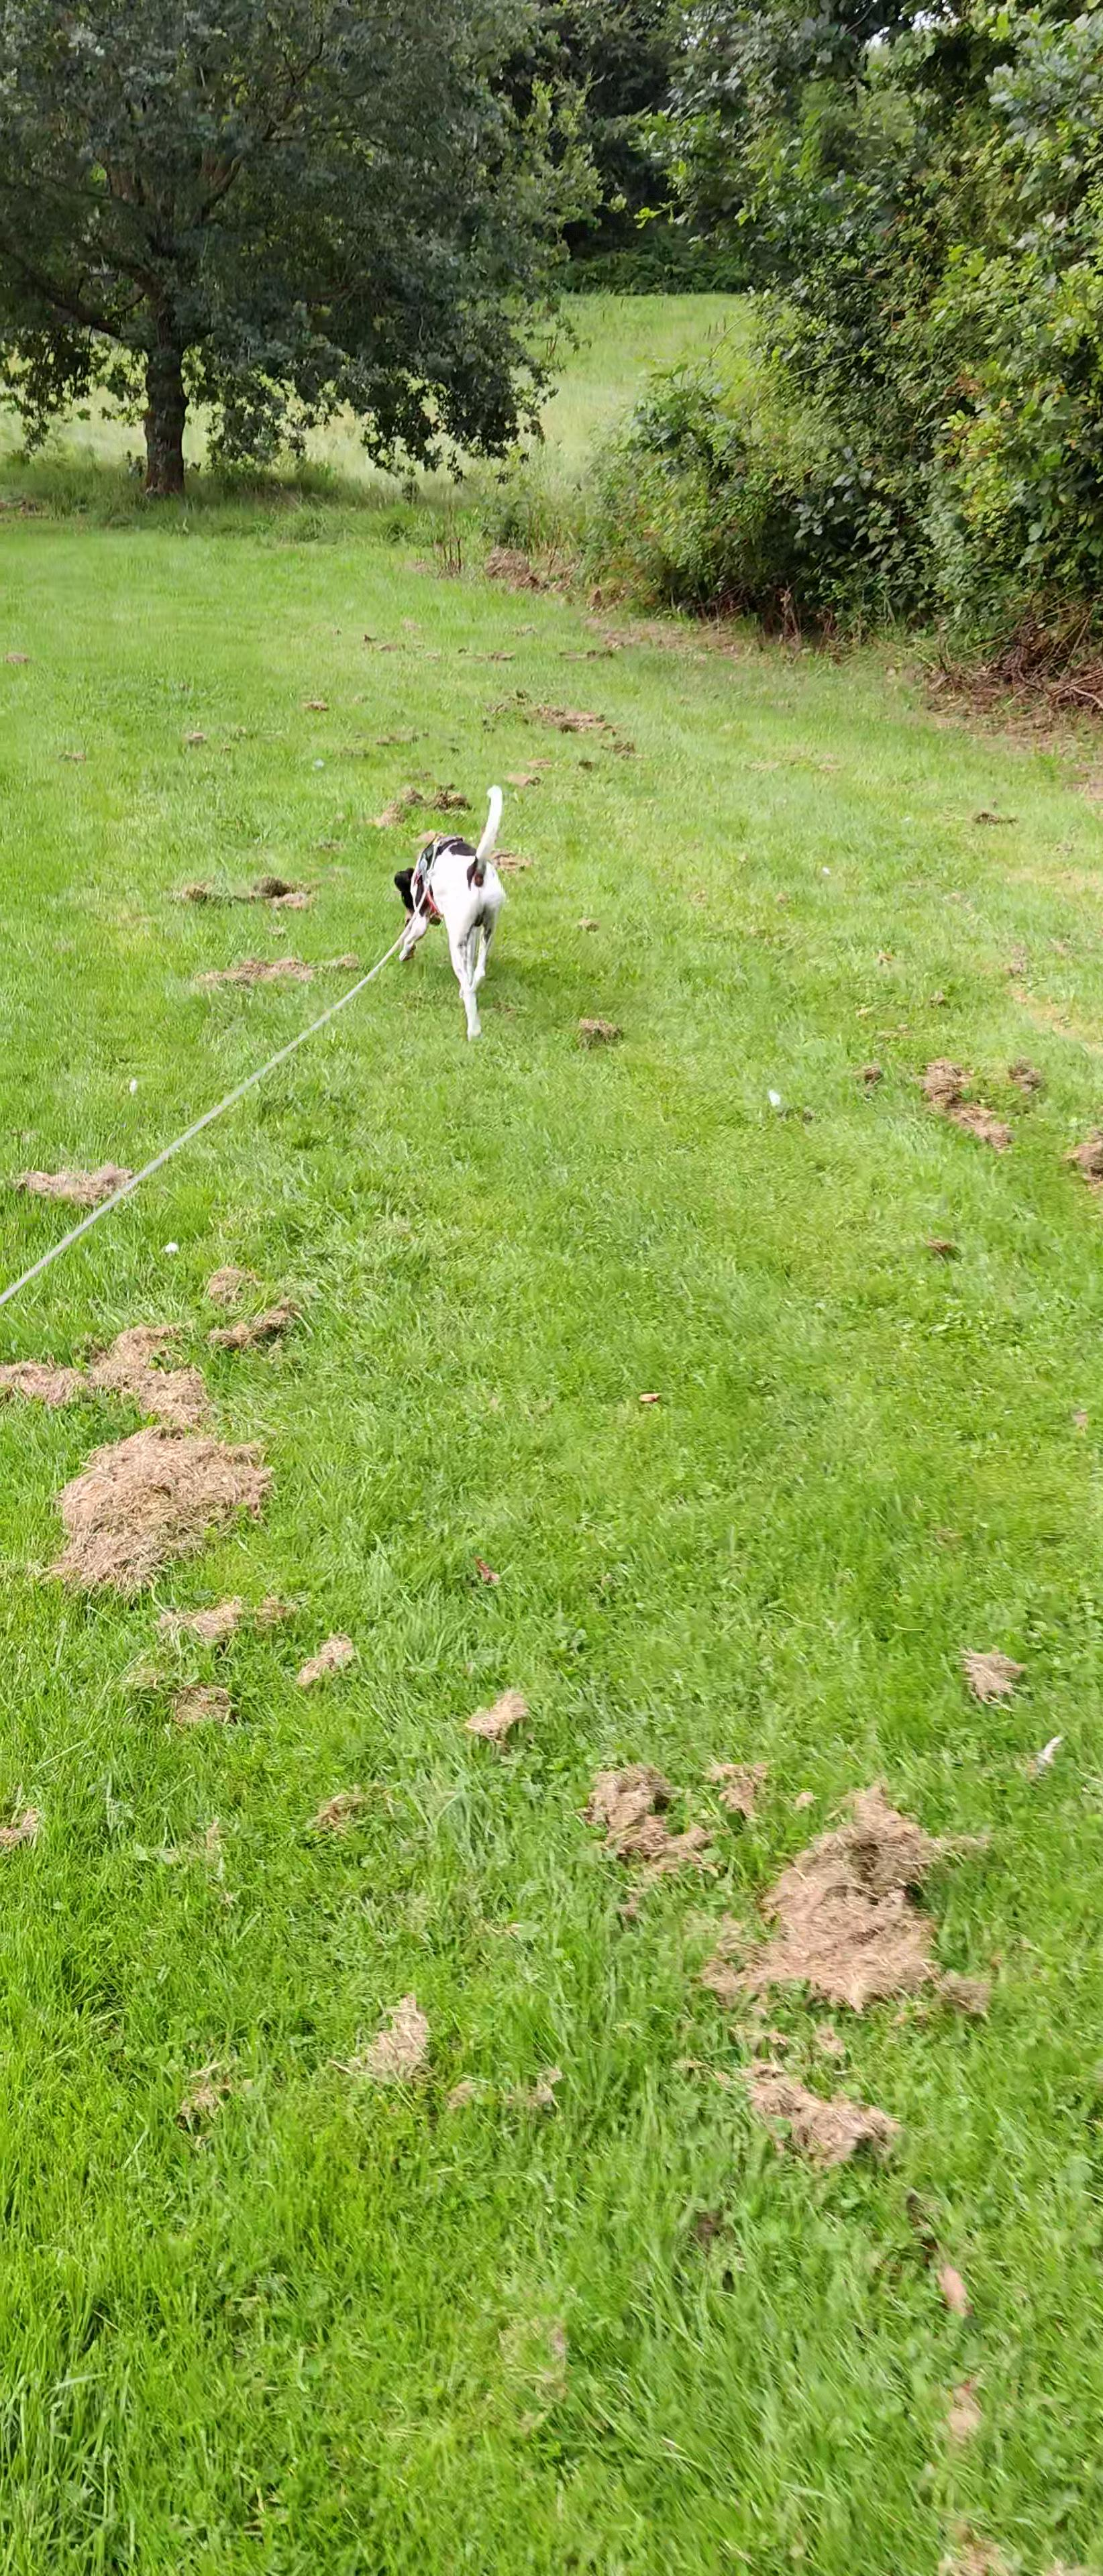Dog: (372, 766, 534, 1065)
